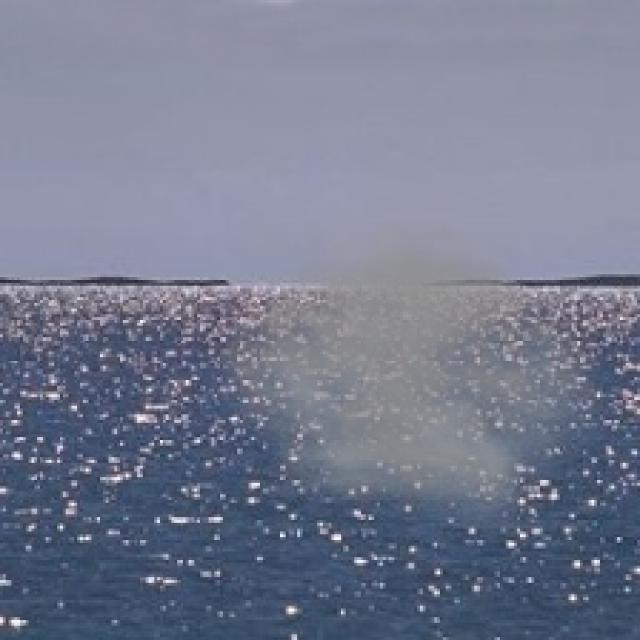Smoke: (197, 180, 620, 529)
